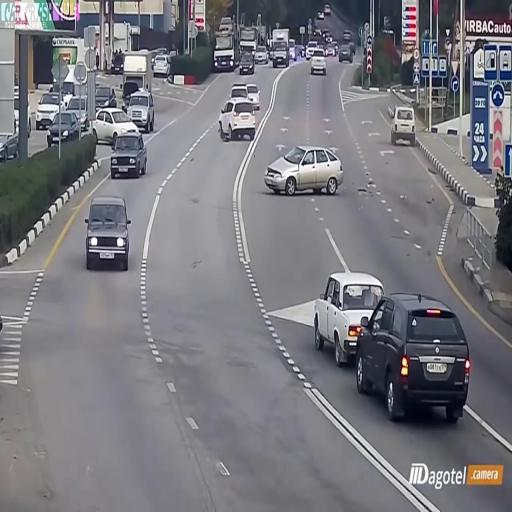小汽车: (362, 297, 474, 425), (312, 268, 382, 364), (262, 145, 346, 194), (86, 198, 132, 272), (108, 128, 148, 177), (90, 104, 138, 141), (218, 94, 258, 138), (389, 101, 419, 147), (34, 90, 67, 128), (213, 22, 239, 68), (128, 91, 156, 131), (48, 112, 80, 144), (238, 29, 258, 75), (270, 32, 294, 66), (152, 45, 174, 79), (309, 46, 327, 74), (336, 38, 356, 63)
